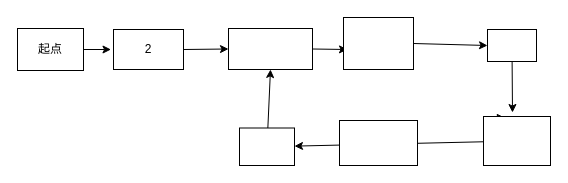
Some shapes in this 568 by 183 pixel diagram are drawn without their labels. Each missing label, with the centre of its shape:
环开始: pixel 270 49
相遇点: pixel 378 143
